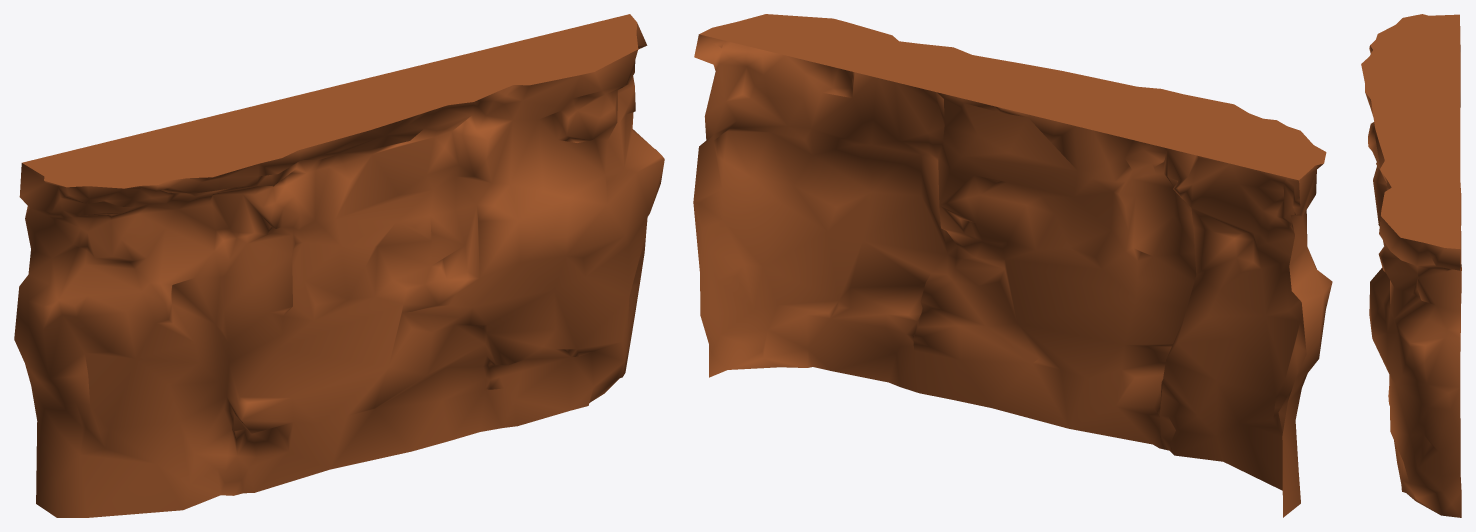
Rendered from Cliff_Wall07.FBX.
The picture shows the model from 3 angles, left to right: view 1: azimuth 30°, elevation 25°; view 2: azimuth 150°, elevation 25°; view 3: azimuth 270°, elevation 25°; orthographic projection. The views are drawn at different scales.
Parts seen in each view (by area): view 1: Cliff_Wall07; view 2: Cliff_Wall07; view 3: Cliff_Wall07.
Boxes of the visible parts, <box> form: Cliff_Wall07: <box>14,14,664,517</box>; Cliff_Wall07: <box>693,14,1332,517</box>; Cliff_Wall07: <box>1361,14,1461,517</box>.
Bounding box in the file's own units: 3178 × 1678 × 562.
